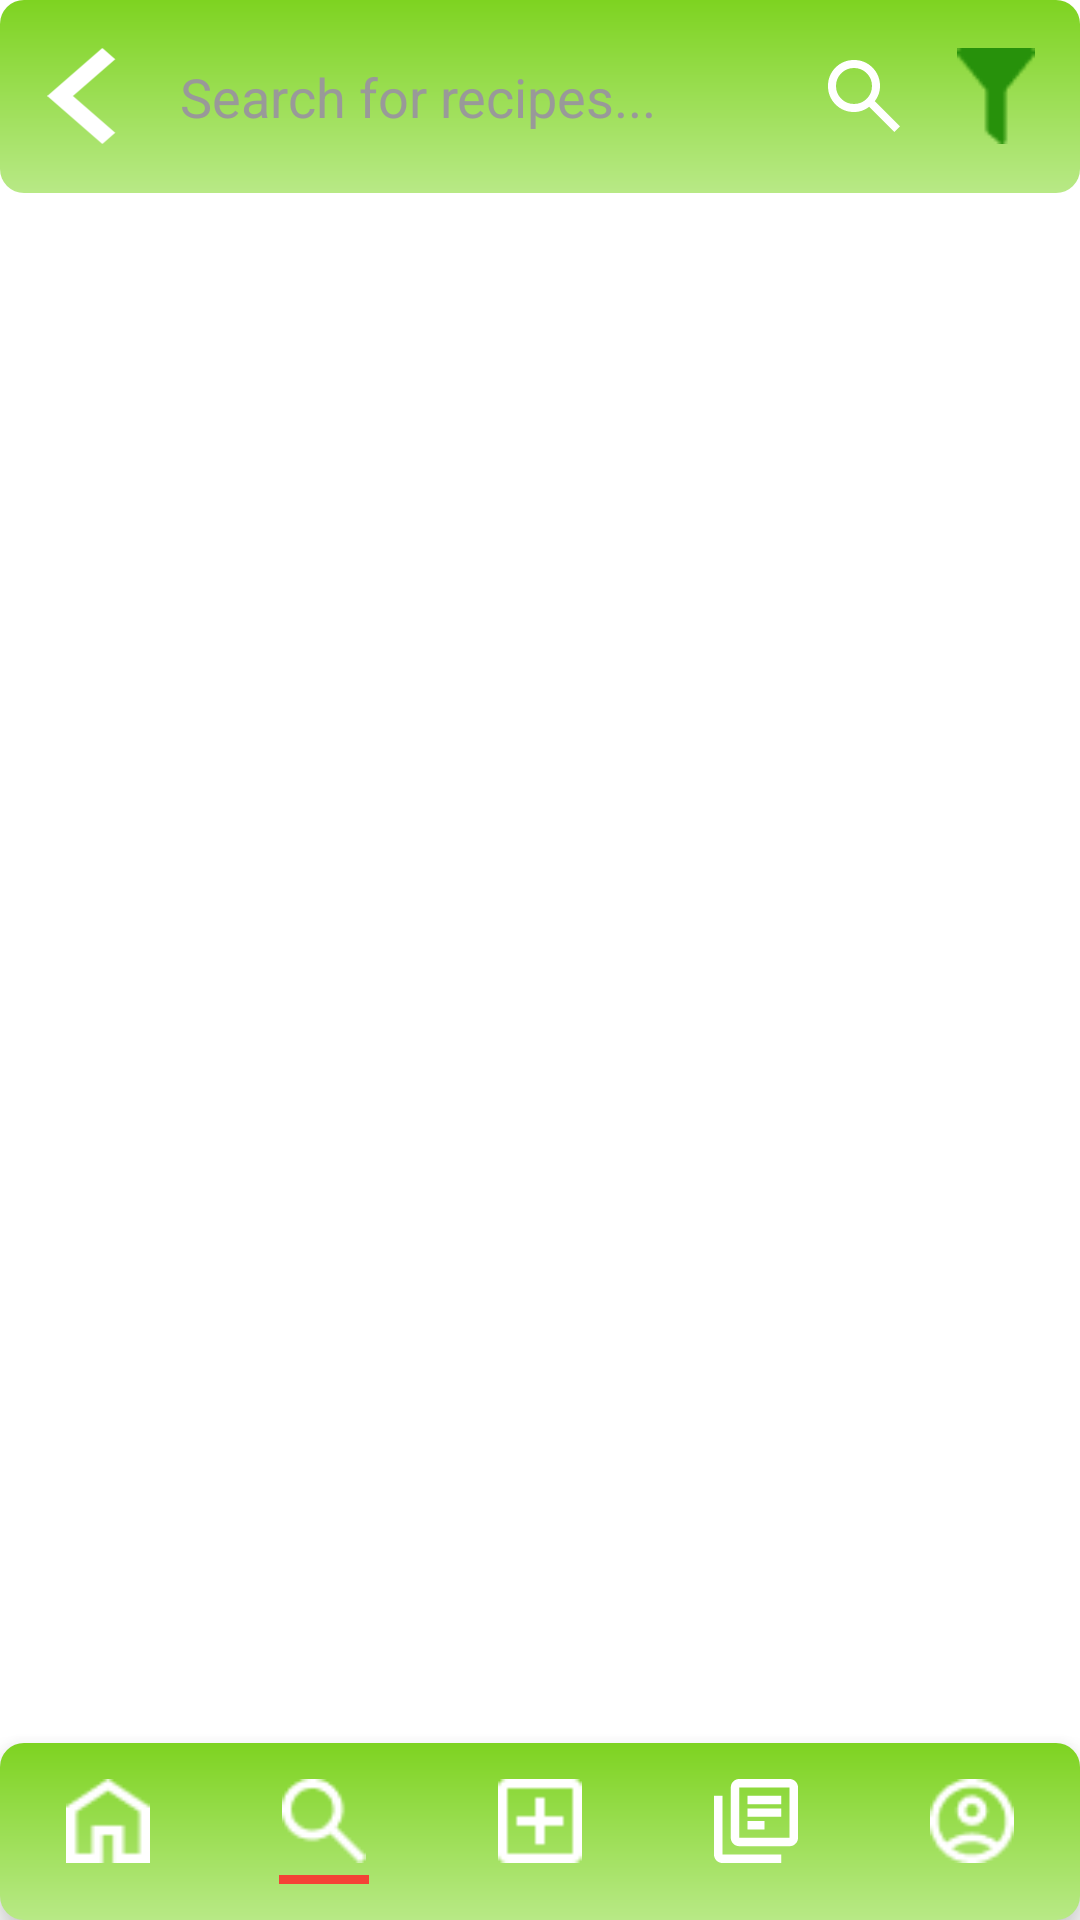

Named icons in this screenshot (1080 x 1920) and their centers, [x,y]:
add: [540,1821]
back: [84,96]
filter: [996,96]
home: [108,1821]
library: [756,1821]
profile: [972,1821]
